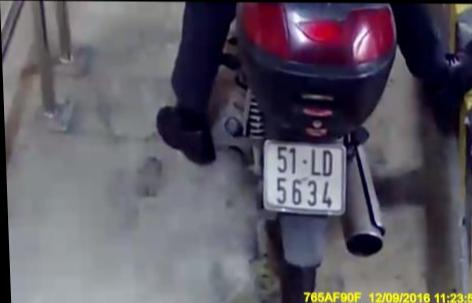LP: (258, 136, 349, 215)
